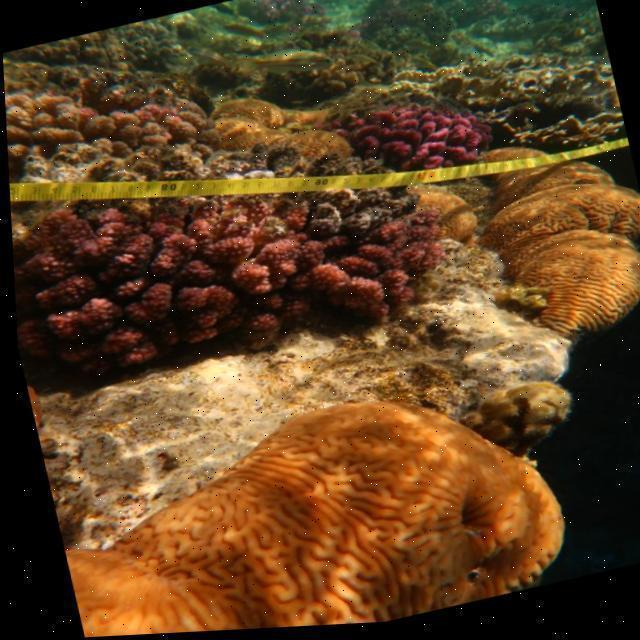Healthy Coral: (36, 353, 577, 640), (7, 159, 309, 417), (474, 124, 640, 354), (285, 204, 476, 345), (196, 70, 357, 191), (327, 82, 497, 196)
